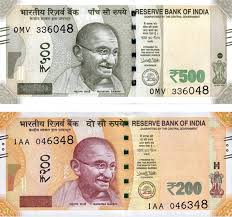fiveHundred: (9, 17, 214, 90)
